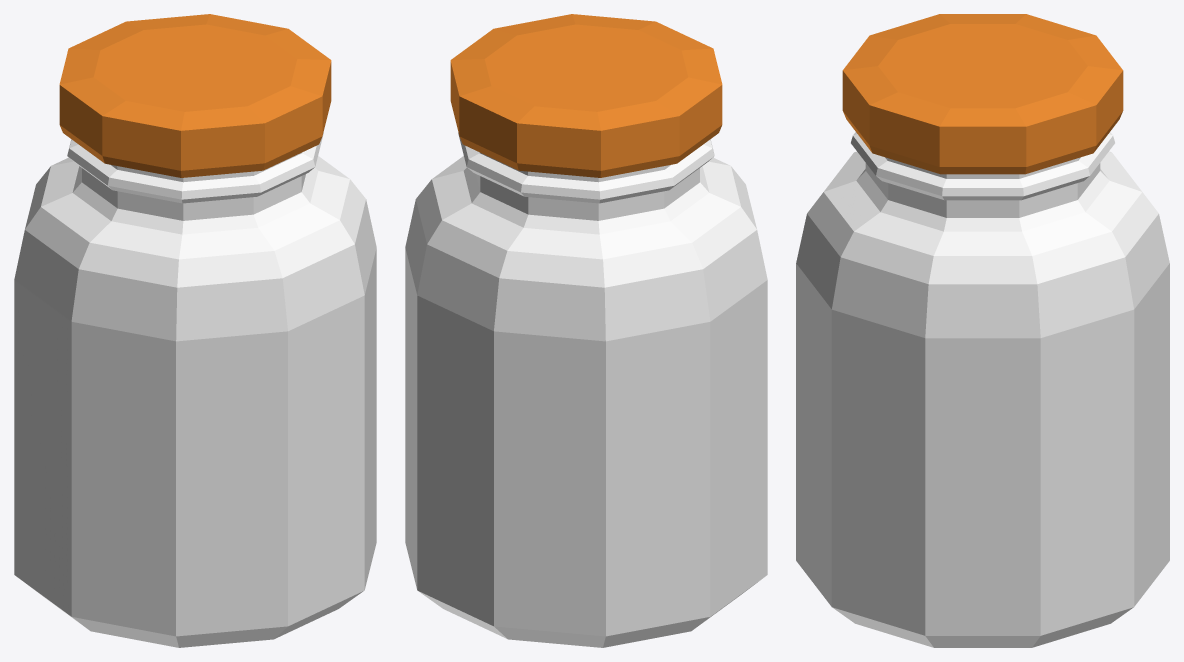
Rendered from Jar.fbx.
3 views of the same model, side by side, from view 1: azimuth 30°, elevation 25°; view 2: azimuth 150°, elevation 25°; view 3: azimuth 270°, elevation 25° (orthographic).
Visible parts, largest first — view 1: Jar; view 2: Jar; view 3: Jar.
Boxes of the visible parts, <box> form: Jar: <box>14,14,376,647</box>; Jar: <box>405,14,767,647</box>; Jar: <box>796,14,1169,647</box>.
Bounding box in the file's own units: 43.24 × 69.58 × 45.47.
